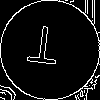T: (25, 25, 61, 74)
